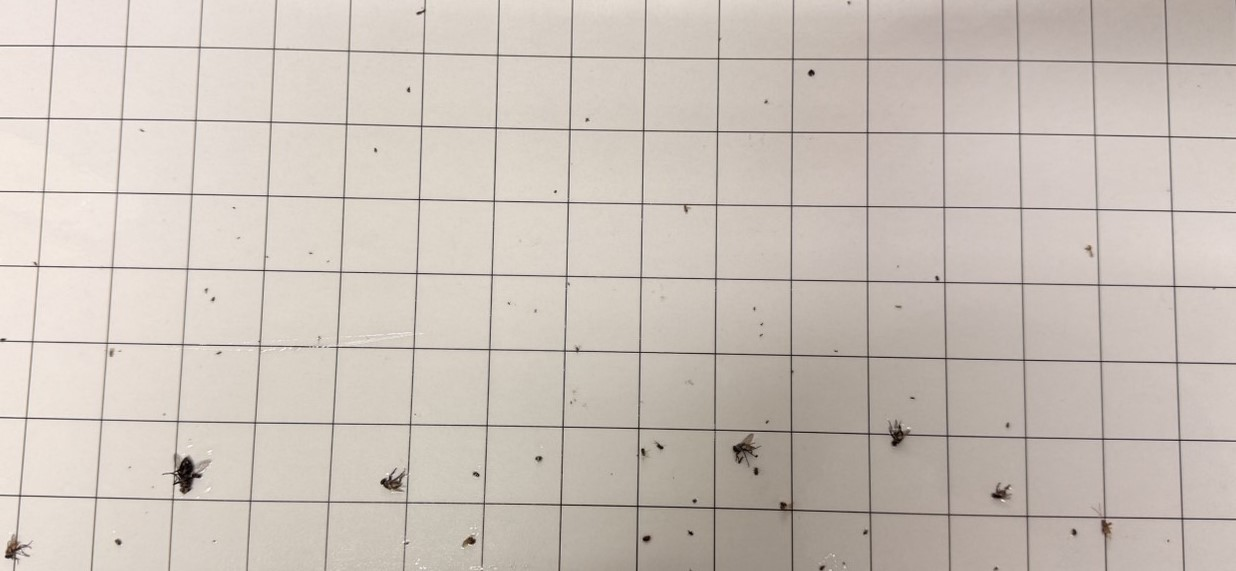fly: (164, 453, 212, 496), (3, 532, 34, 565), (731, 431, 760, 465), (380, 466, 409, 493), (886, 420, 913, 448), (989, 480, 1013, 504)
test: (1100, 518, 1113, 538), (462, 535, 477, 548), (1085, 244, 1095, 259), (779, 501, 789, 513), (415, 7, 427, 17), (682, 203, 691, 215), (807, 68, 816, 79), (107, 348, 117, 357), (1071, 527, 1079, 538), (535, 454, 544, 463), (655, 443, 665, 451), (640, 447, 648, 457), (643, 534, 651, 544), (686, 529, 696, 537), (753, 467, 761, 477), (472, 469, 480, 478), (405, 86, 413, 95), (114, 538, 123, 546), (0, 335, 8, 343), (894, 303, 903, 310), (402, 540, 411, 547), (862, 528, 869, 536), (934, 274, 941, 282), (757, 332, 765, 339), (215, 350, 223, 357), (209, 295, 217, 302), (574, 346, 581, 354), (763, 98, 770, 106), (1004, 422, 1011, 429), (139, 127, 146, 134), (372, 146, 379, 153), (584, 116, 591, 123), (818, 565, 826, 571), (203, 286, 209, 294), (992, 565, 1000, 571), (692, 497, 698, 504), (764, 419, 770, 426), (911, 395, 917, 402), (833, 348, 839, 355), (32, 260, 38, 267), (553, 188, 559, 195), (308, 250, 314, 257), (235, 235, 242, 241), (264, 254, 270, 260), (506, 300, 512, 306), (532, 308, 538, 314), (841, 560, 847, 566), (846, 1, 852, 7), (325, 258, 331, 264), (1166, 537, 1171, 544), (231, 205, 236, 211), (790, 369, 795, 375), (162, 411, 167, 417), (127, 465, 133, 470), (212, 538, 217, 544), (752, 306, 757, 311), (760, 321, 764, 327), (567, 281, 571, 287)
